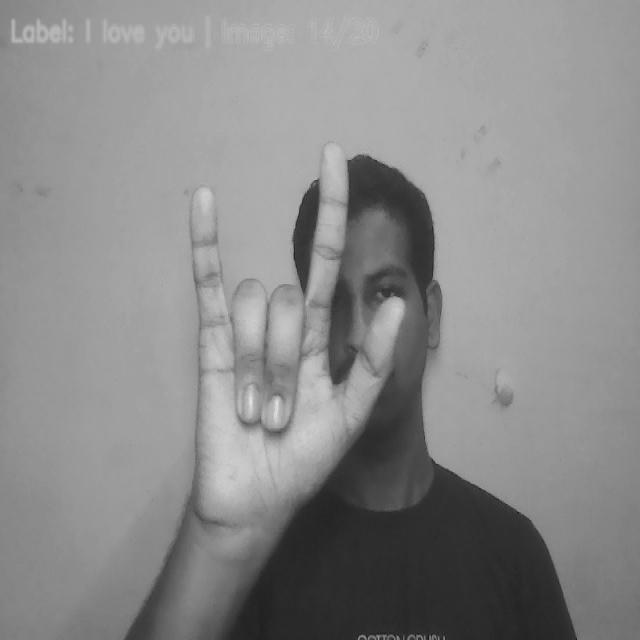I love you: (187, 146, 409, 518)
